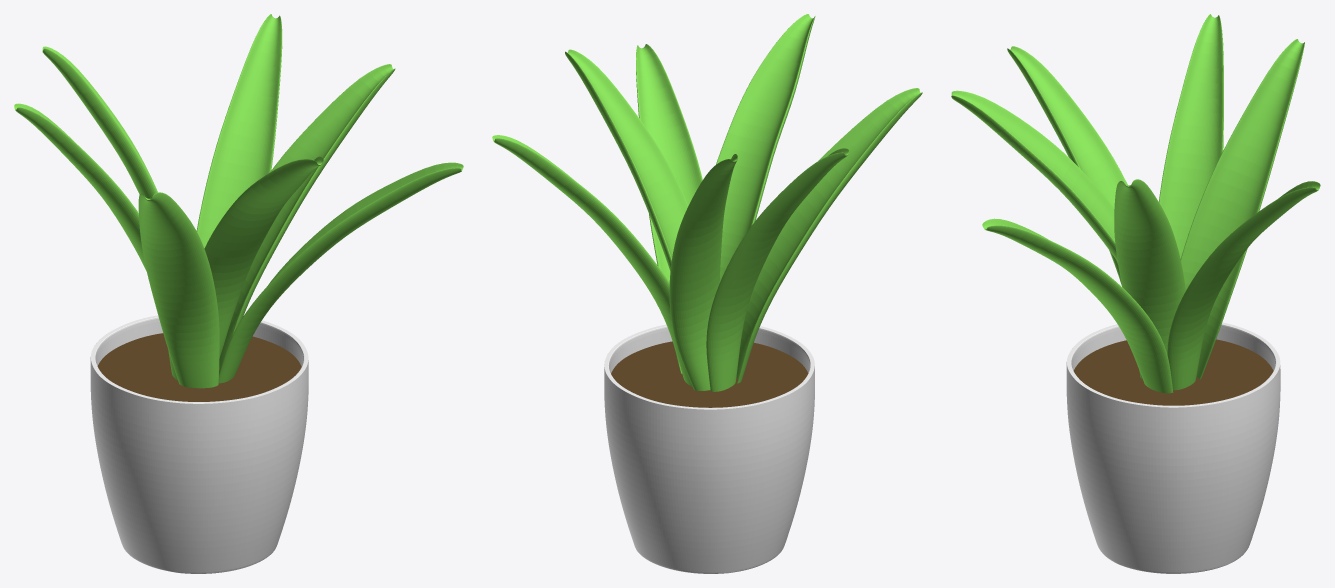
Rendered from Plant.fbx.
The picture shows the model from 3 angles, left to right: view 1: azimuth 30°, elevation 25°; view 2: azimuth 150°, elevation 25°; view 3: azimuth 270°, elevation 25°; orthographic projection. The views are drawn at different scales.
Visible parts, largest first — view 1: Plane.009, Plane.013, Plane.012, Circle.001, Plane.014, Plane.010, Plane.016, Plane.015, Plane.011; view 2: Plane.009, Plane.014, Plane.011, Plane.013, Plane.015, Circle.001, Plane.010, Plane.016, Plane.012; view 3: Plane.009, Plane.011, Plane.015, Plane.010, Circle.001, Plane.012, Plane.016, Plane.014, Plane.013.
Boxes of the visible parts, x1,y1,x2,y2 form: Plane.009: (90, 315, 308, 573); Plane.013: (138, 192, 219, 388); Plane.012: (196, 14, 282, 248); Circle.001: (97, 333, 301, 401); Plane.014: (204, 156, 323, 356); Plane.010: (219, 64, 395, 373); Plane.016: (218, 162, 463, 383); Plane.015: (14, 103, 177, 380); Plane.011: (42, 46, 157, 198); Plane.009: (604, 324, 814, 573); Plane.014: (716, 14, 815, 282); Plane.011: (669, 154, 737, 390); Plane.013: (736, 88, 922, 383); Plane.015: (706, 148, 848, 391); Circle.001: (611, 341, 808, 407); Plane.010: (565, 49, 688, 270); Plane.016: (636, 44, 702, 373); Plane.012: (492, 135, 692, 386); Plane.009: (1066, 322, 1280, 573); Plane.011: (1180, 39, 1304, 379); Plane.015: (1159, 14, 1223, 258); Plane.010: (1114, 179, 1185, 353); Circle.001: (1073, 339, 1273, 405); Plane.012: (1167, 181, 1320, 390); Plane.016: (982, 218, 1173, 393); Plane.014: (951, 90, 1117, 261); Plane.013: (1007, 46, 1142, 379).
Size of what is drawn, in the model's own units: 382 by 511 by 372.
